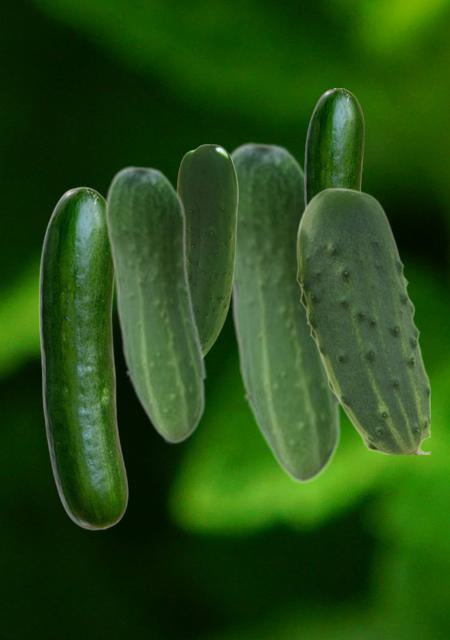cucumber: (229, 140, 341, 483), (296, 187, 429, 453), (38, 186, 127, 529), (104, 164, 206, 443), (176, 144, 237, 356), (304, 88, 364, 207)
